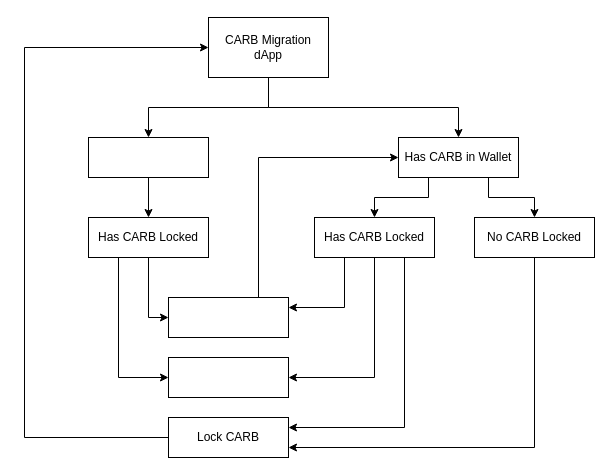
Image size: 612x475. Some labels were removed from this diagram. Here are the shapes that lost their labels. From the top down, the centre of each, then its label:
point (148, 157): No CARB in Wallet
point (228, 317): Withdraw CARB
point (228, 377): Update Polygon Addy
